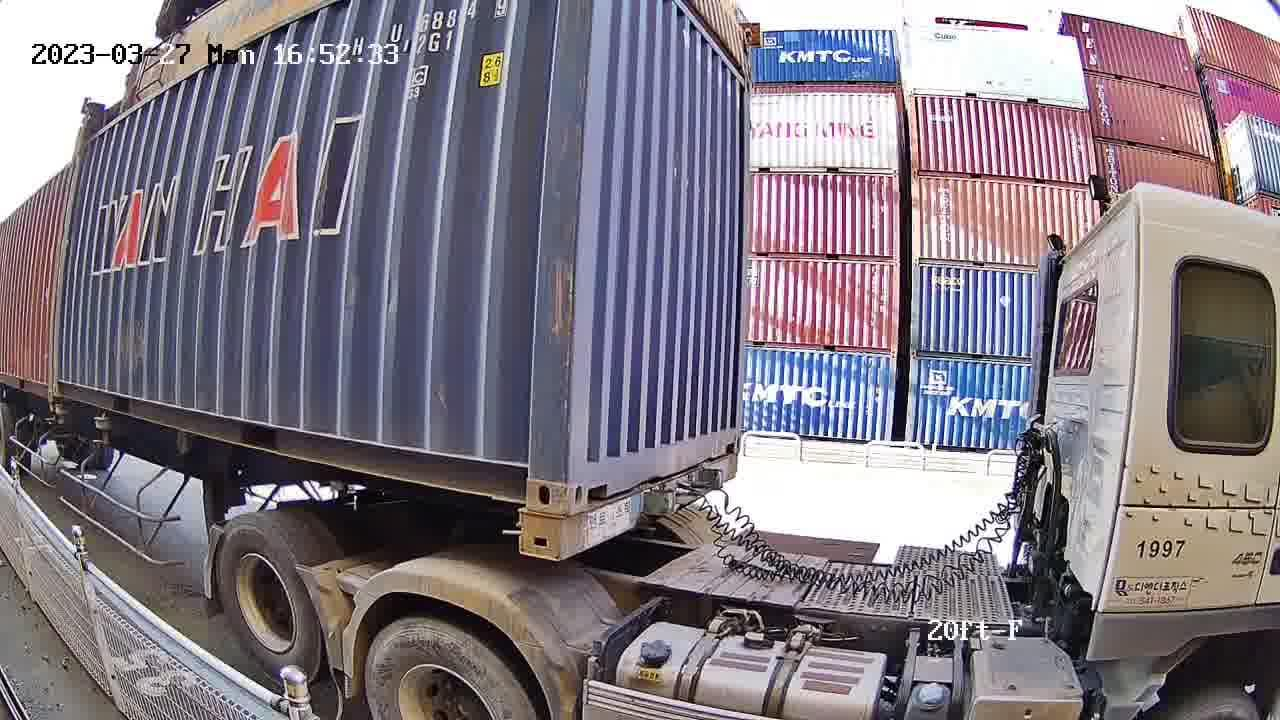Chassis: (514, 456, 737, 558)
Cone: (523, 510, 559, 560)
Hole_L: (564, 441, 611, 516)
Hole_R: (501, 442, 566, 517), (718, 416, 743, 455)
Tire: (214, 514, 321, 688), (366, 619, 526, 714)
